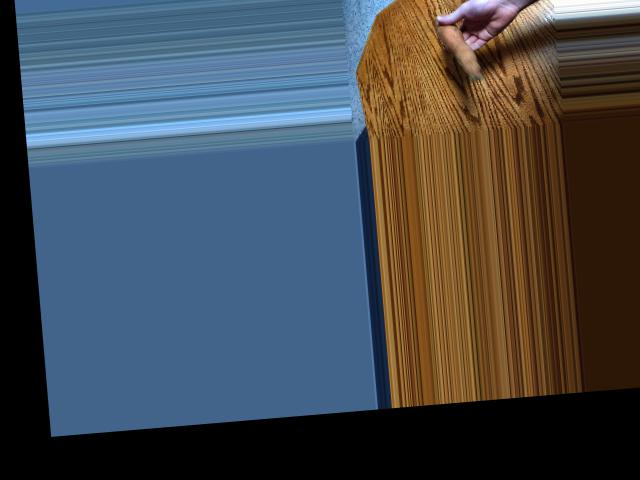sweet_potato: (433, 8, 489, 86)
